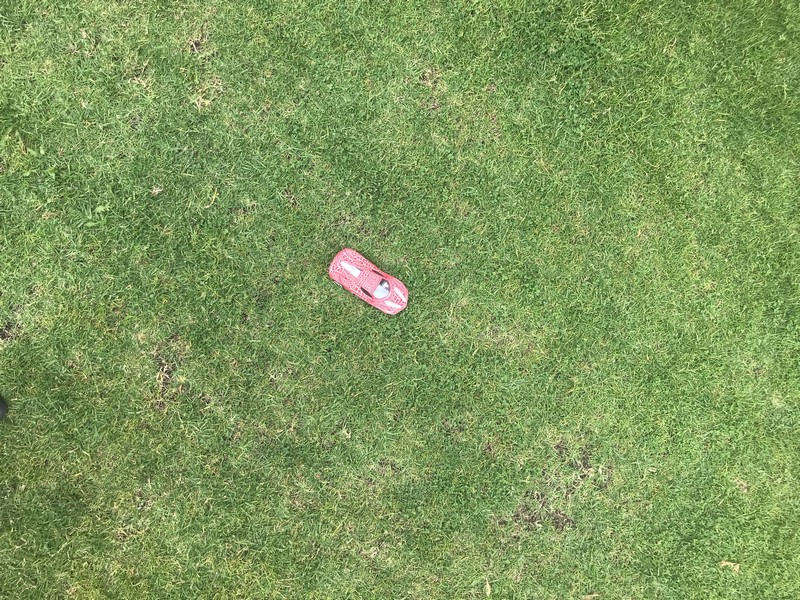RC: (327, 246, 410, 317)
